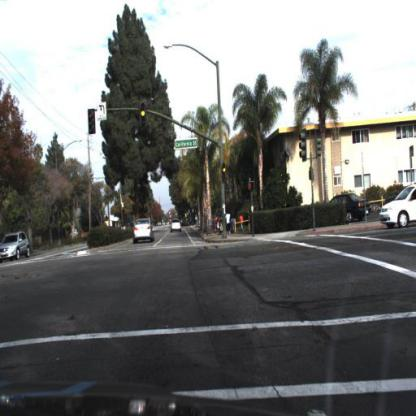car: (330, 189, 373, 222), (334, 193, 372, 224), (132, 218, 157, 246), (171, 217, 183, 234)
pedestrian: (230, 208, 238, 238), (239, 212, 247, 233), (226, 209, 232, 236)
trafficLight-RedLeft: (87, 106, 98, 137), (89, 110, 97, 131)
trafficLight-Yellow: (141, 100, 149, 126), (220, 163, 230, 179), (140, 108, 148, 126), (222, 161, 228, 183)
